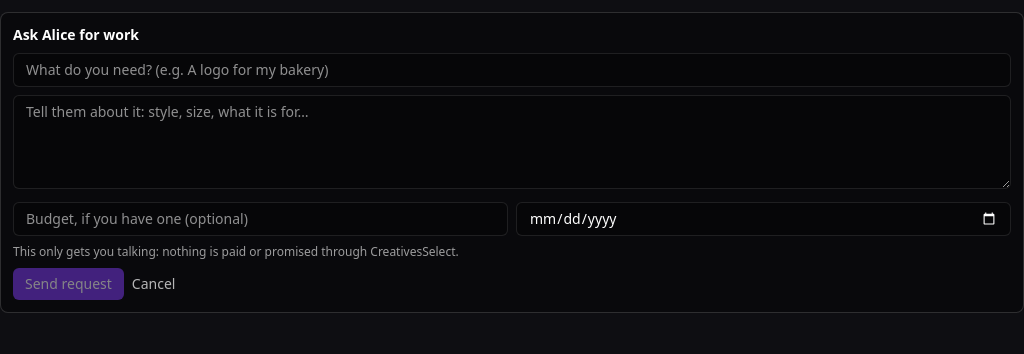
Test: WorkRequestForm › says why it couldn't be sent, and lets them try again
In the field named "Title of your request": (512, 70) top-left (13, 53), bottom-right (1011, 87), type "A logo"
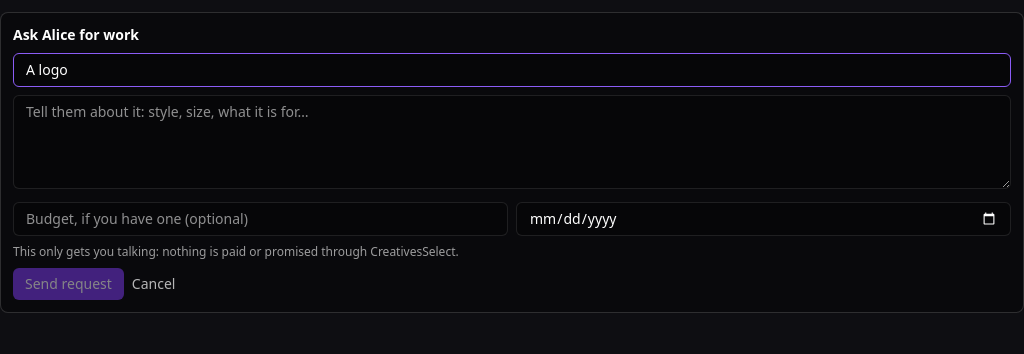
In the text box named "Details of your request": (512, 142) top-left (13, 95), bottom-right (1011, 189), type "Warm colours"
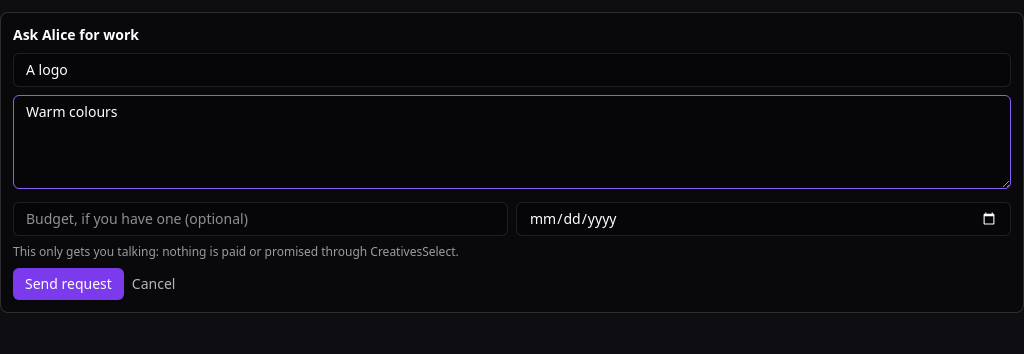
Click the button "Send request": (68, 284) top-left (13, 268), bottom-right (124, 300)
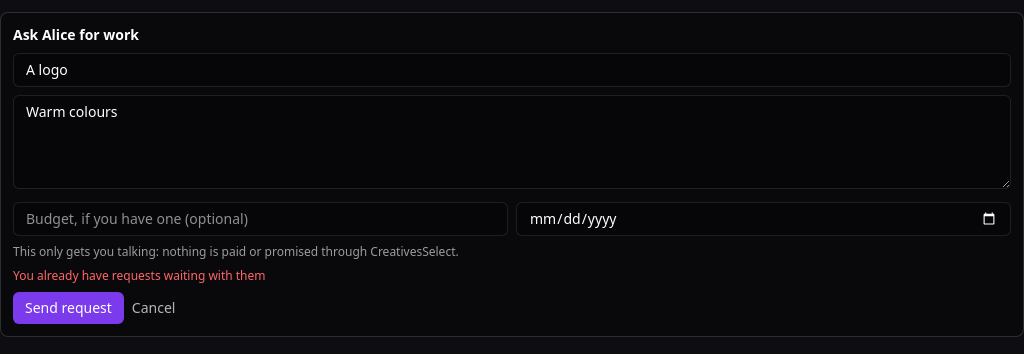
Expected: the button "Send request" is enabled, top-left (13, 292), bottom-right (124, 324)
Expected: the message reads "You already have requests waiting with them", top-left (13, 267), bottom-right (266, 284)
